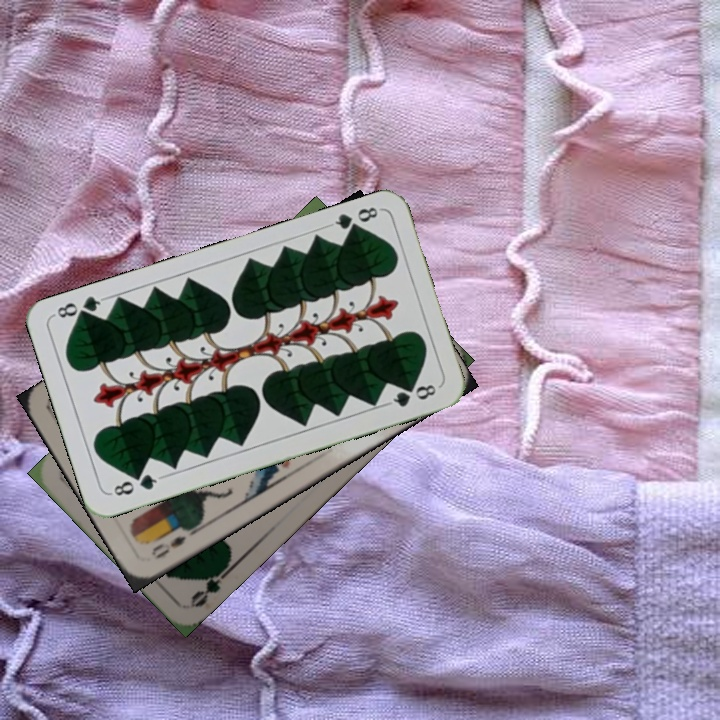EO: (147, 523, 197, 562)
G8: (325, 202, 381, 237), (106, 470, 164, 499)
GO: (187, 560, 236, 610)
